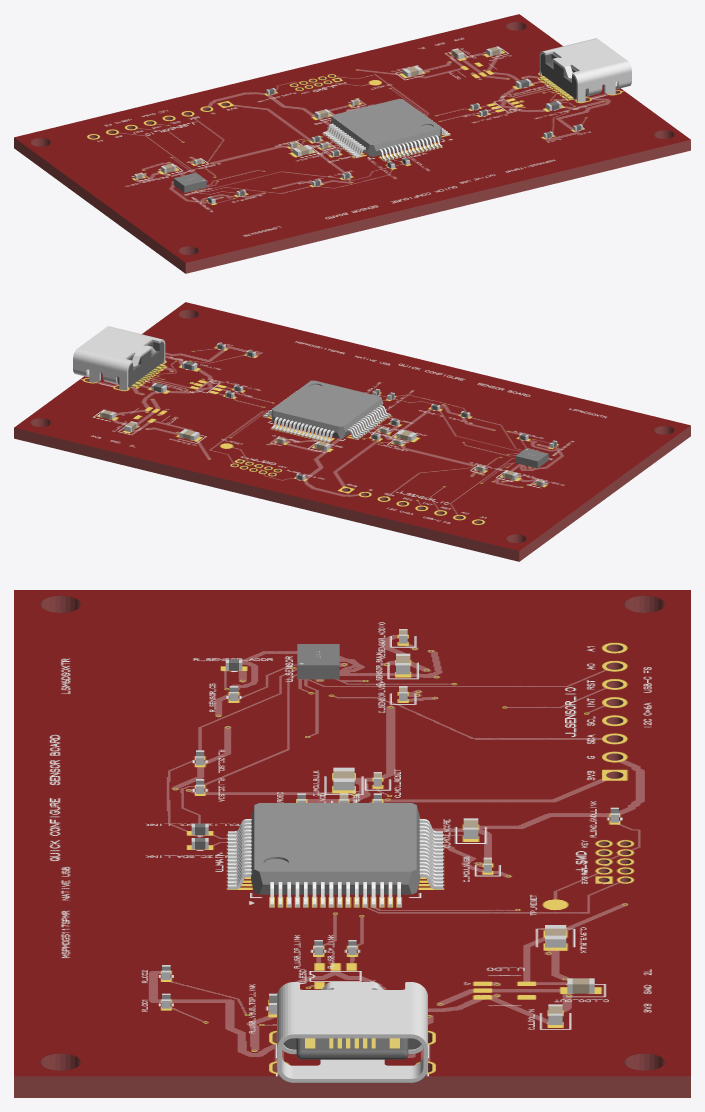
3 renders of one model, top to bottom at view 1: azimuth 30°, elevation 25°; view 2: azimuth 150°, elevation 25°; view 3: azimuth 270°, elevation 25°, orthographic. The views are drawn at different scales.
Visible parts, largest first — view 1: Box0, U_MAIN, J_USB, U_SENSOR; view 2: Box0, U_MAIN, J_USB, U_SENSOR; view 3: Box0, U_MAIN, J_USB, U_SENSOR.
Part boxes in pixels (x1=…): Box0: x1=14, y1=14, x2=690, y2=273; U_MAIN: x1=322, y1=98, x2=450, y2=161; J_USB: x1=539, y1=38, x2=631, y2=102; U_SENSOR: x1=173, y1=173, x2=206, y2=192; Box0: x1=14, y1=302, x2=690, y2=561; U_MAIN: x1=263, y1=380, x2=390, y2=442; J_USB: x1=73, y1=326, x2=165, y2=390; U_SENSOR: x1=515, y1=448, x2=548, y2=468; Box0: x1=14, y1=590, x2=690, y2=1097; U_MAIN: x1=228, y1=803, x2=442, y2=907; J_USB: x1=277, y1=982, x2=427, y2=1082; U_SENSOR: x1=297, y1=644, x2=339, y2=679.
Bounding box in the file's own units: 69.04 × 4.65 × 40.
Materials: 15 (2 with a texture image).
